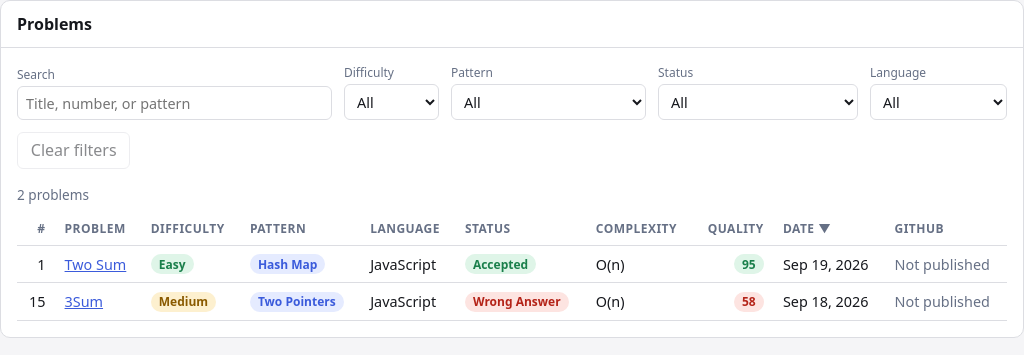
ProblemsPage › searches as the user types
Type "two sum" into the search field at (174, 103), box 17,86 -> 332,120
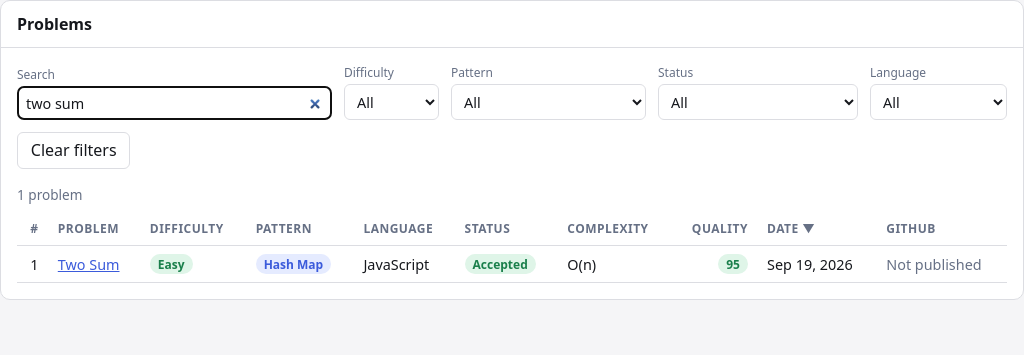
Expected: the link "Two Sum" is shown, 58,254 -> 120,274
Result: the number of rows with test id "problem-row" is 1 at 17,245 -> 1007,283
